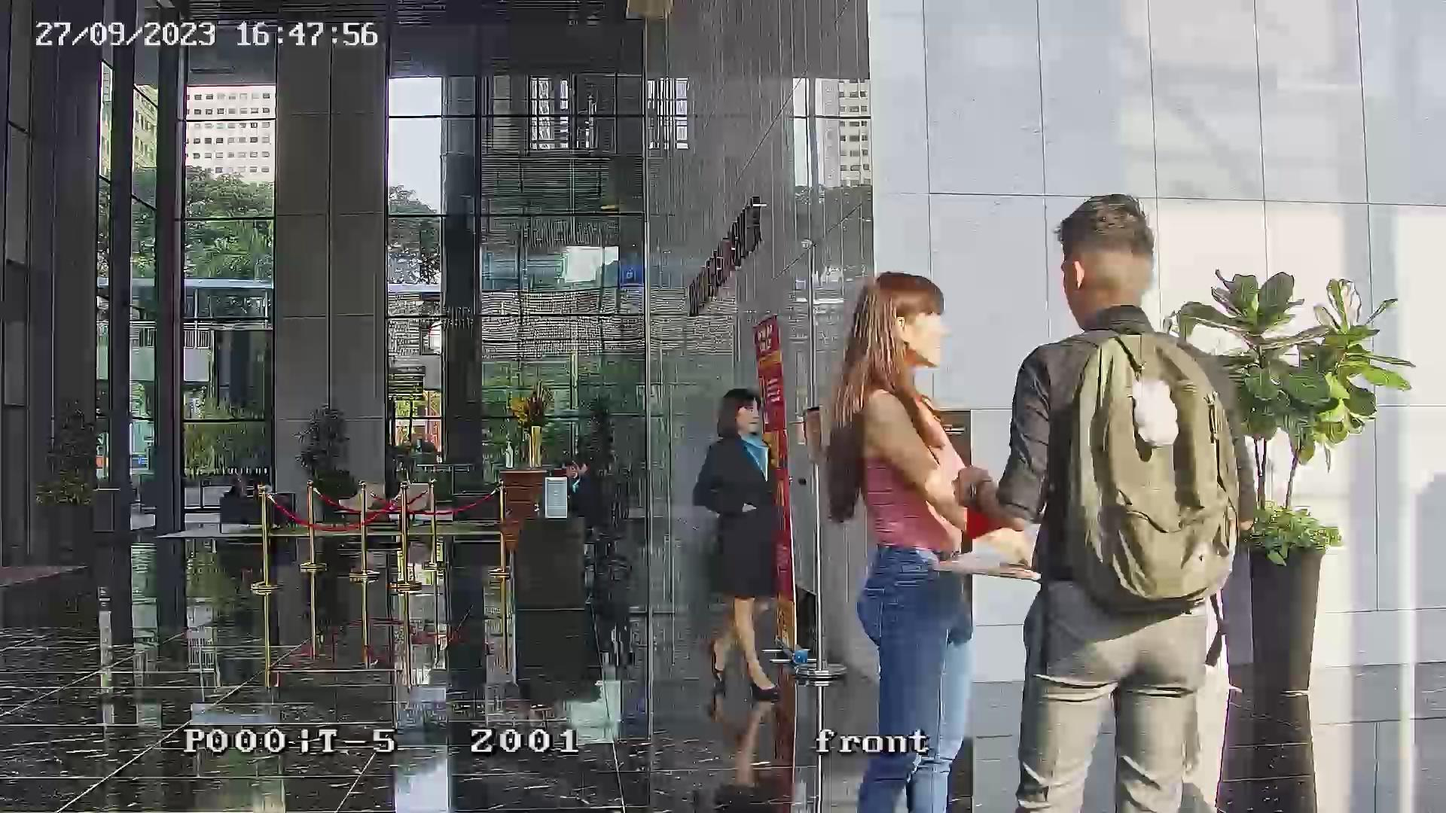person: (983, 193, 1242, 808), (821, 272, 975, 808), (693, 386, 782, 693), (569, 454, 606, 528)
